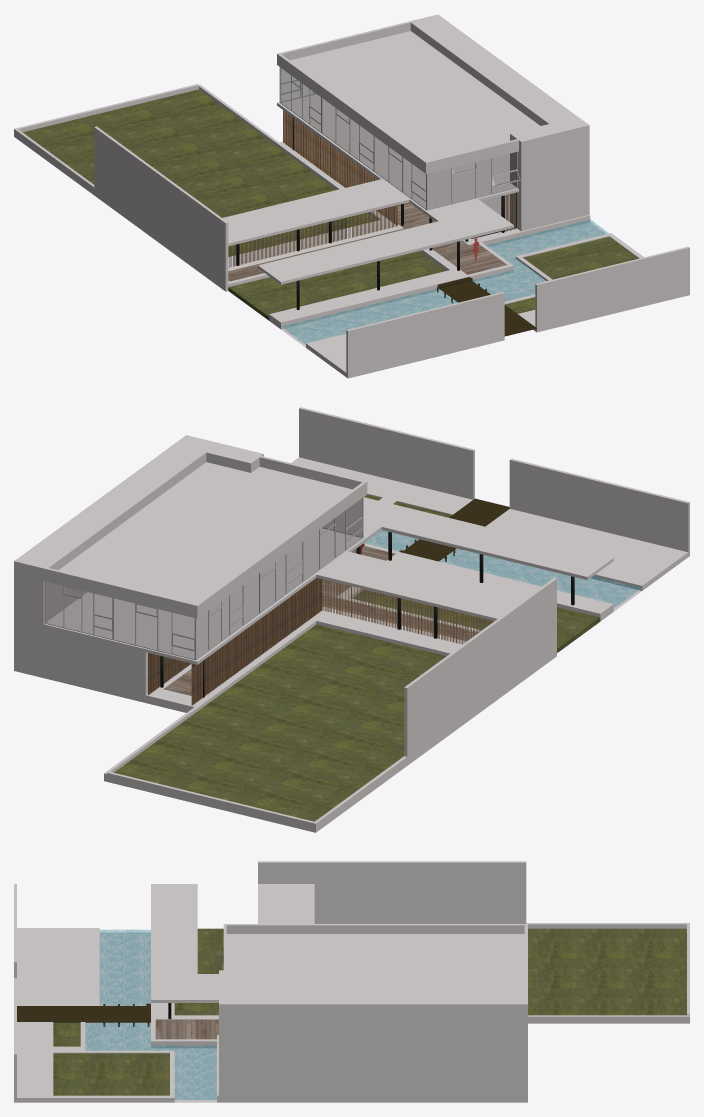
File: modelo_casa_concreto.glb
3 views of the same model, one above another, from view 1: azimuth 30°, elevation 25°; view 2: azimuth 150°, elevation 25°; view 3: azimuth 270°, elevation 25° (orthographic). The views are drawn at different scales.
Parts seen in each view (by area): view 1: G-__555735_467, G-__555672_19, G-__556095_516, G-__556122_519, G-__555663_18, G-__555609_12, G-__556104_517, G-__555636_15, G-__555627_14, G-__555654_17, G-__555645_16, G-__556131_520 (+5 smaller); view 2: G-__556095_516, G-__555735_467, G-__555672_19, G-__556122_519, G-__556104_517, G-__555609_12, G-__555663_18, G-__555591_10, G-__556113_518, G-__556131_520, G-__555627_14, G-__555636_15 (+6 smaller); view 3: G-__555663_18, G-__555735_467, G-__556104_517, G-__556095_516, G-__555645_16, G-__555672_19, G-__555591_10, G-__555627_14, G-__555636_15, G-__555609_12, G-__556131_520, G-__555582_9 (+2 smaller).
Part boxes in pixels (bbox=[...]): G-__555735_467: bbox=[277, 21, 551, 173]; G-__555672_19: bbox=[222, 94, 518, 284]; G-__556095_516: bbox=[23, 89, 377, 256]; G-__556122_519: bbox=[346, 246, 689, 378]; G-__555663_18: bbox=[412, 14, 589, 231]; G-__555609_12: bbox=[228, 142, 590, 329]; G-__556104_517: bbox=[94, 126, 228, 291]; G-__555636_15: bbox=[281, 220, 608, 344]; G-__555627_14: bbox=[281, 222, 605, 347]; G-__555654_17: bbox=[228, 251, 446, 320]; G-__555645_16: bbox=[515, 233, 643, 280]; G-__556131_520: bbox=[14, 84, 278, 194]; G-__556095_516: bbox=[114, 624, 446, 821]; G-__555735_467: bbox=[43, 444, 367, 618]; G-__555672_19: bbox=[43, 497, 613, 664]; G-__556122_519: bbox=[299, 407, 689, 556]; G-__556104_517: bbox=[404, 578, 556, 765]; G-__555609_12: bbox=[14, 543, 613, 712]; G-__555663_18: bbox=[14, 435, 263, 670]; G-__555591_10: bbox=[388, 485, 688, 590]; G-__556113_518: bbox=[43, 627, 147, 695]; G-__556131_520: bbox=[104, 706, 407, 832]; G-__555627_14: bbox=[364, 530, 641, 611]; G-__555636_15: bbox=[364, 530, 640, 607]; G-__555663_18: bbox=[219, 970, 527, 1095]; G-__555735_467: bbox=[223, 924, 527, 991]; G-__556104_517: bbox=[258, 861, 526, 923]; G-__556095_516: bbox=[528, 928, 686, 1015]; G-__555645_16: bbox=[17, 1048, 174, 1102]; G-__555672_19: bbox=[151, 884, 314, 1002]; G-__555591_10: bbox=[17, 928, 99, 1048]; G-__555627_14: bbox=[85, 932, 216, 1102]; G-__555636_15: bbox=[85, 930, 216, 1099]; G-__555609_12: bbox=[151, 1003, 527, 1102]; G-__556131_520: bbox=[526, 923, 689, 1023]; G-__555582_9: bbox=[17, 1006, 150, 1022].
Size of the model in its own units: 25.78 by 6.89 by 42.92.
Materials: 12 (4 with a texture image).
